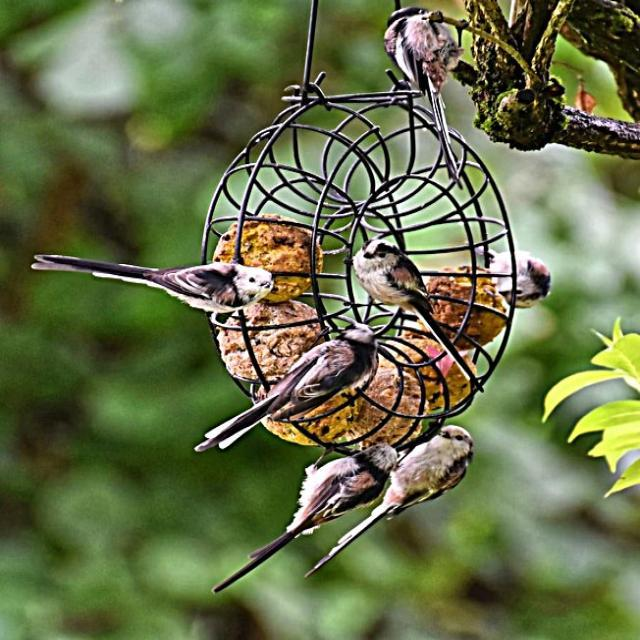bird: (300, 406, 500, 624), (8, 205, 294, 335), (183, 322, 394, 484), (230, 412, 406, 584), (344, 196, 458, 334), (472, 216, 576, 334), (366, 0, 471, 113)
